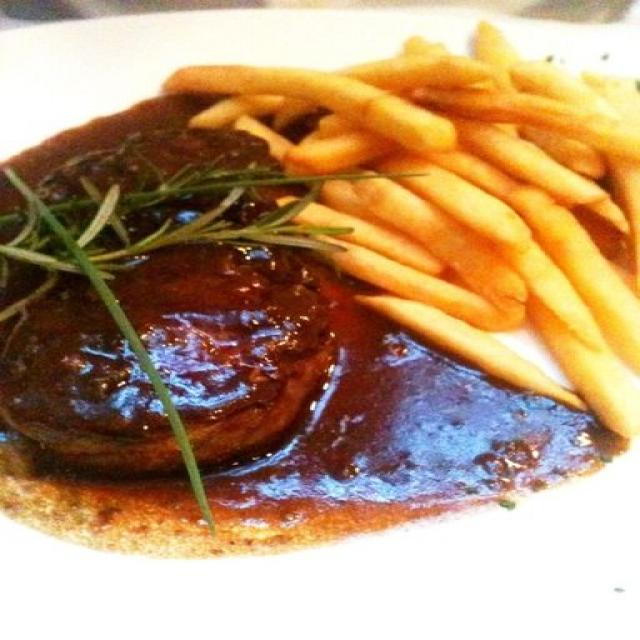French fries: (195, 48, 640, 360)
Steak: (20, 215, 345, 463)
